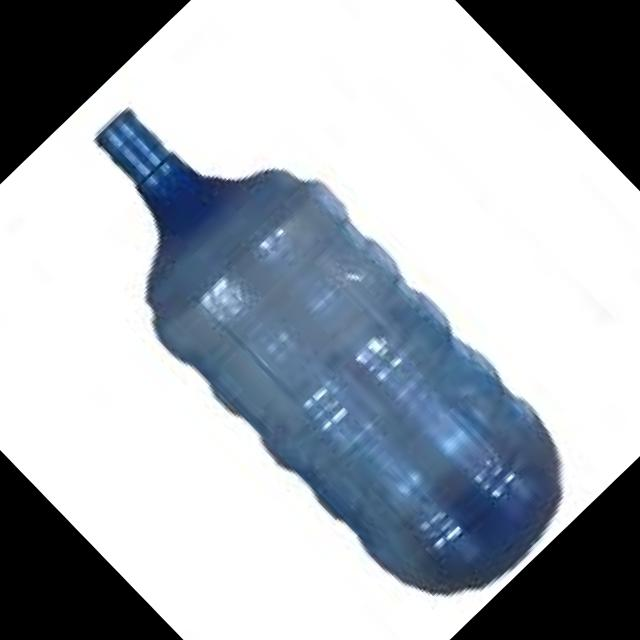Galon: (19, 39, 607, 636)
